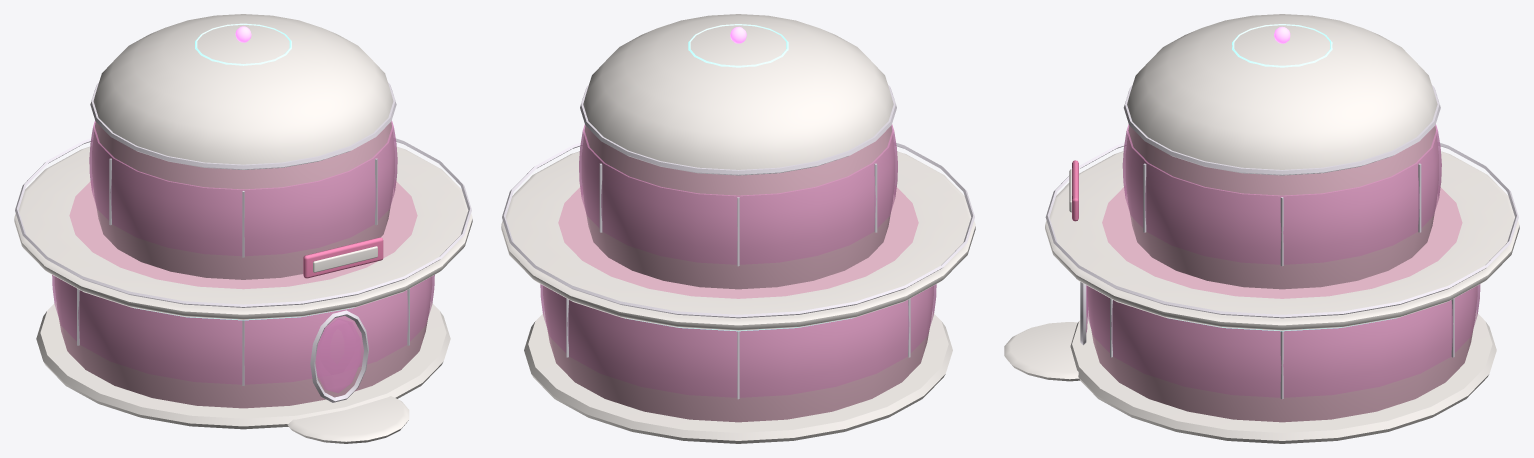
File: building_bubble_wide.glb
3 views of the same model, side by side, from view 1: azimuth 30°, elevation 25°; view 2: azimuth 150°, elevation 25°; view 3: azimuth 270°, elevation 25° (orthographic). The views are drawn at different scales.
Parts seen in each view (by area): view 1: building_bubble_wide; view 2: building_bubble_wide; view 3: building_bubble_wide.
Part boxes in pixels (x1,y1,x2,y2): building_bubble_wide: (14, 14, 472, 443); building_bubble_wide: (501, 14, 975, 443); building_bubble_wide: (1004, 14, 1519, 443).
Size of the model in its own units: 11.06 by 8.4 by 12.01.
